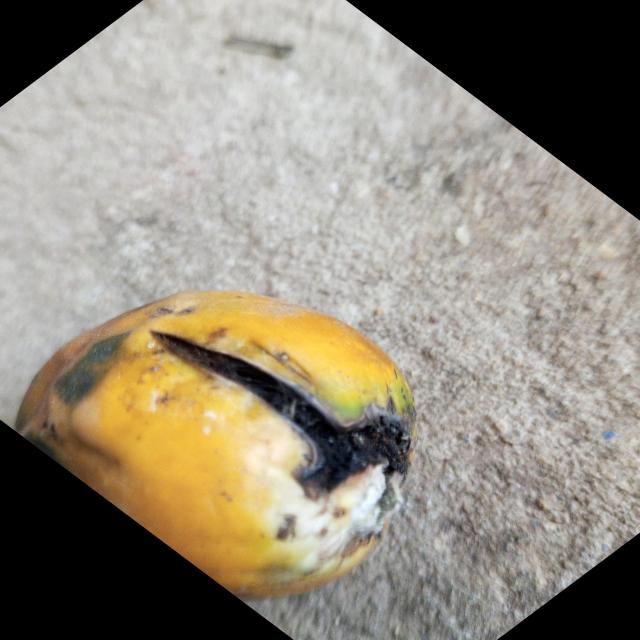damaged: (15, 289, 417, 604)
